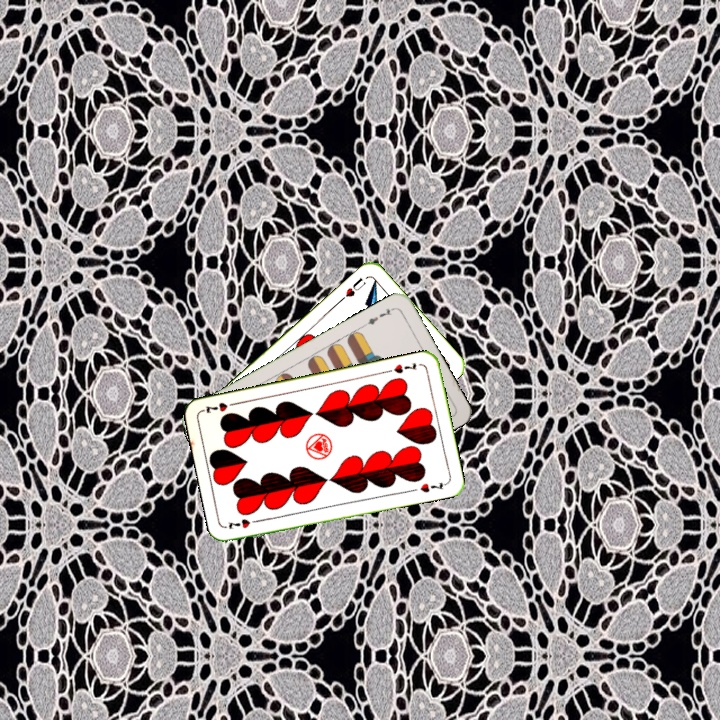E7: (360, 303, 397, 329)
H7: (224, 515, 263, 532), (383, 358, 419, 376)
HU: (336, 273, 369, 304)
